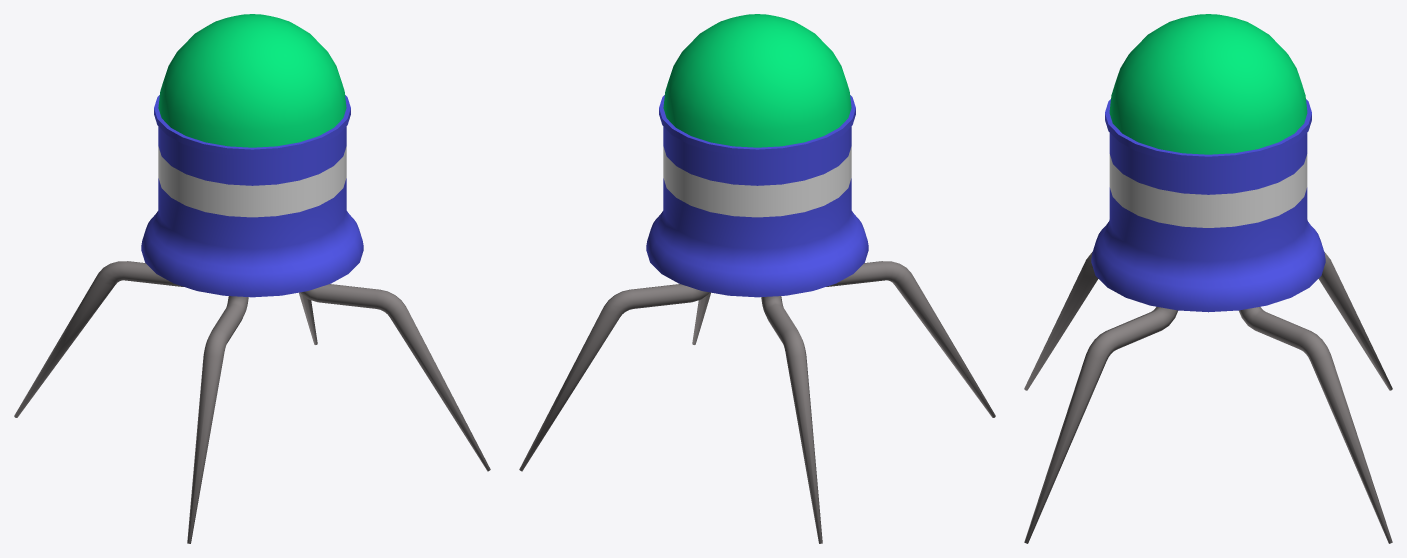
The model's file is diode.fbx.
3 renders of one model, left to right at view 1: azimuth 30°, elevation 25°; view 2: azimuth 150°, elevation 25°; view 3: azimuth 270°, elevation 25°, orthographic. The views are drawn at different scales.
Parts seen in each view (by area): view 1: Sphere, Cylinder.010, Cylinder.009, Cylinder.008; view 2: Sphere, Cylinder.004, Cylinder.008, Cylinder.009; view 3: Sphere, Cylinder.004, Cylinder.010, Cylinder.008, Cylinder.009.
Part boxes in pixels (left/top/right/bottom): Sphere: left=141, top=14, right=363, bottom=297; Cylinder.010: left=300, top=284, right=490, bottom=471; Cylinder.009: left=187, top=296, right=248, bottom=543; Cylinder.008: left=14, top=261, right=183, bottom=417; Sphere: left=646, top=14, right=868, bottom=297; Cylinder.004: left=519, top=284, right=709, bottom=471; Cylinder.008: left=761, top=296, right=822, bottom=543; Cylinder.009: left=826, top=261, right=995, bottom=417; Sphere: left=1091, top=14, right=1325, bottom=312; Cylinder.004: left=1239, top=306, right=1392, bottom=543; Cylinder.010: left=1024, top=306, right=1177, bottom=543; Cylinder.008: left=1318, top=252, right=1392, bottom=390; Cylinder.009: left=1024, top=252, right=1098, bottom=390.
Bounding box in the file's own units: 372 × 495 × 372.
